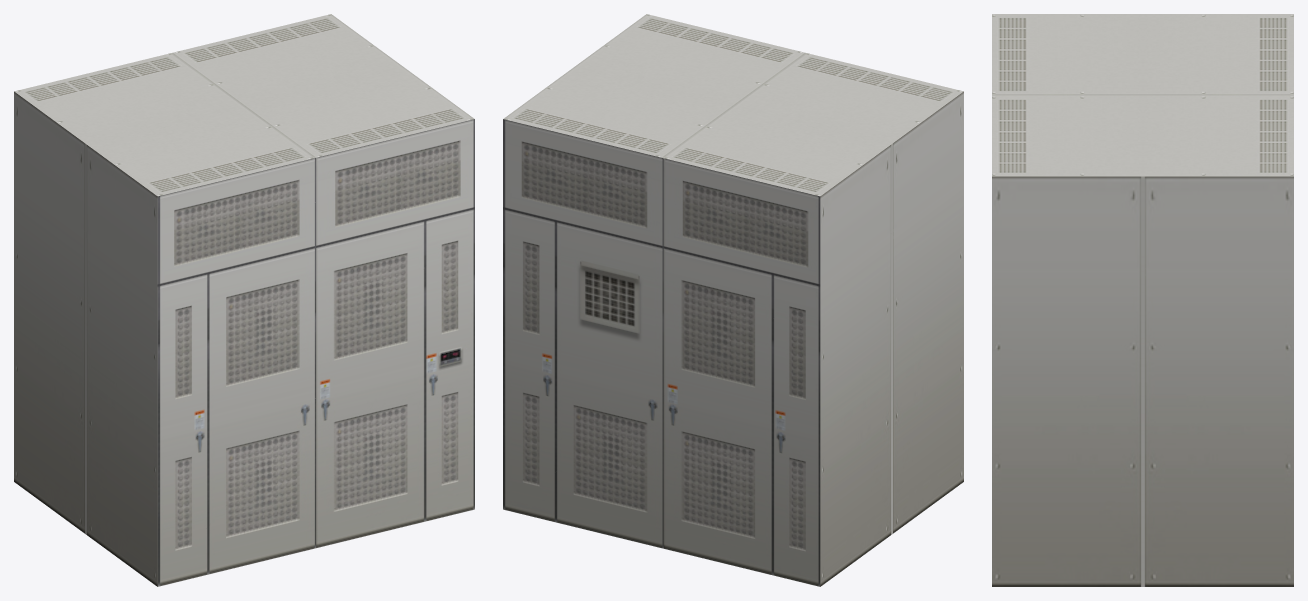
The picture shows the model from 3 angles, left to right: view 1: azimuth 30°, elevation 25°; view 2: azimuth 150°, elevation 25°; view 3: azimuth 270°, elevation 25°; orthographic projection. The views are drawn at different scales.
Visible parts, largest first — view 1: TR-J1; view 2: TR-J1; view 3: TR-J1.
Part boxes in pixels (box(x1,y1,x2,y2)): TR-J1: box(14, 14, 474, 586); TR-J1: box(503, 14, 963, 586); TR-J1: box(992, 14, 1293, 586).
Bounding box in the file's own units: 2.81 × 3.3 × 2.2.
1 material, 1 textured.
